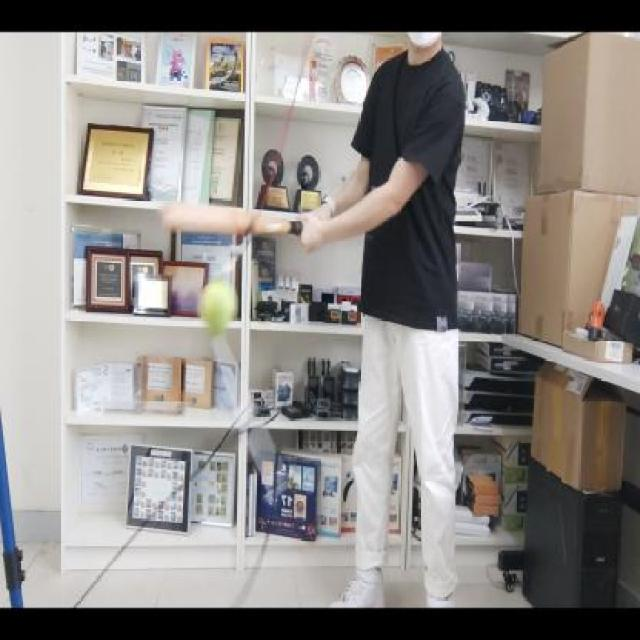baseball: (196, 277, 236, 331)
